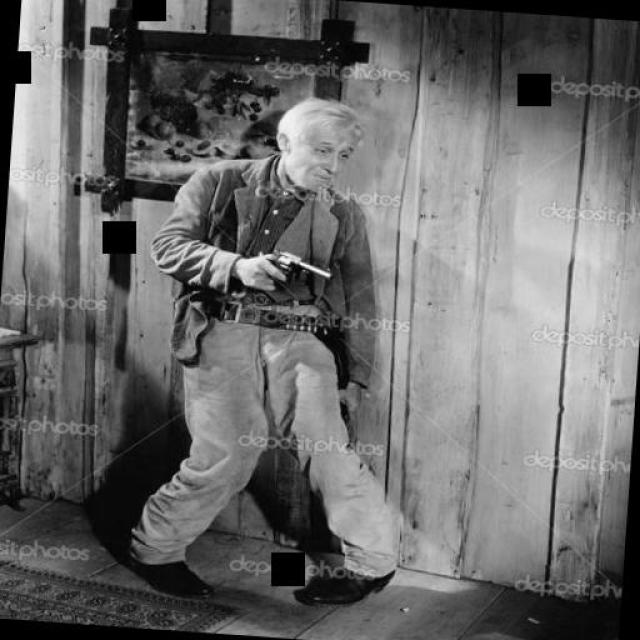gun: (218, 244, 344, 290)
